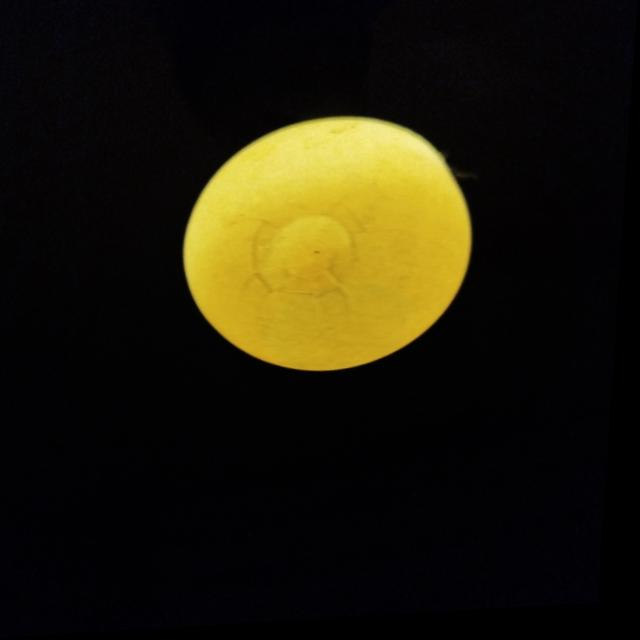Rachadura: (260, 219, 358, 299)
